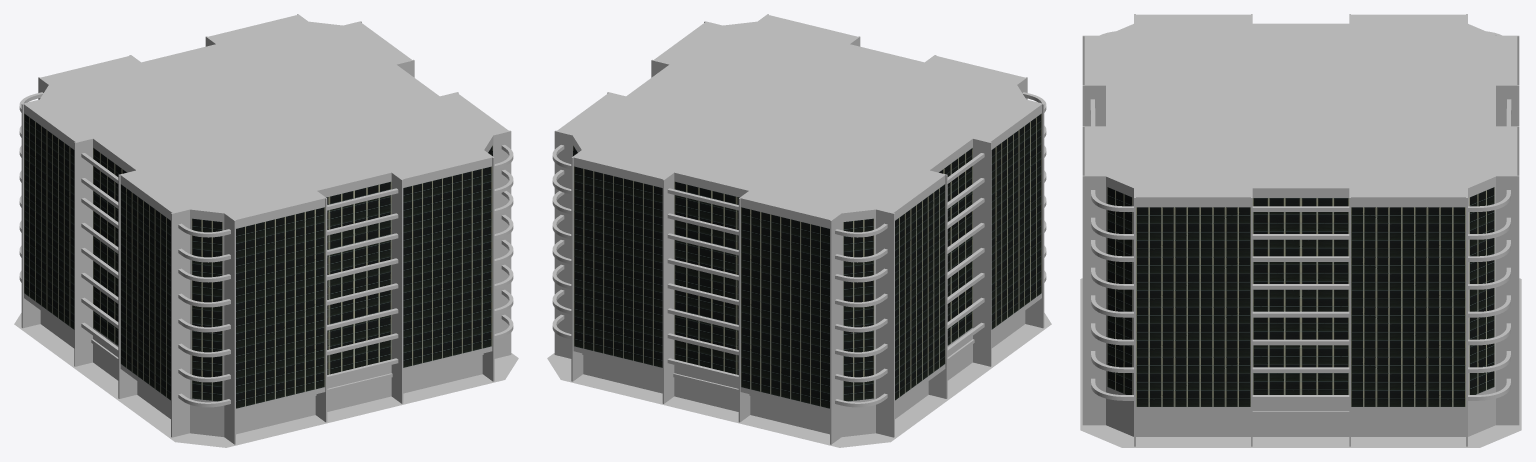
3 views of the same model, side by side, from view 1: azimuth 30°, elevation 25°; view 2: azimuth 150°, elevation 25°; view 3: azimuth 270°, elevation 25° (orthographic). The views are drawn at different scales.
Parts seen in each view (by area): view 1: QD-10; view 2: QD-10; view 3: QD-10.
Part boxes in pixels (<box>): QD-10: <box>14,14,518,447</box>; QD-10: <box>547,14,1051,447</box>; QD-10: <box>1080,14,1521,447</box>.
Size of what is drawn, in the model's own units: 72 by 44.77 by 72.
